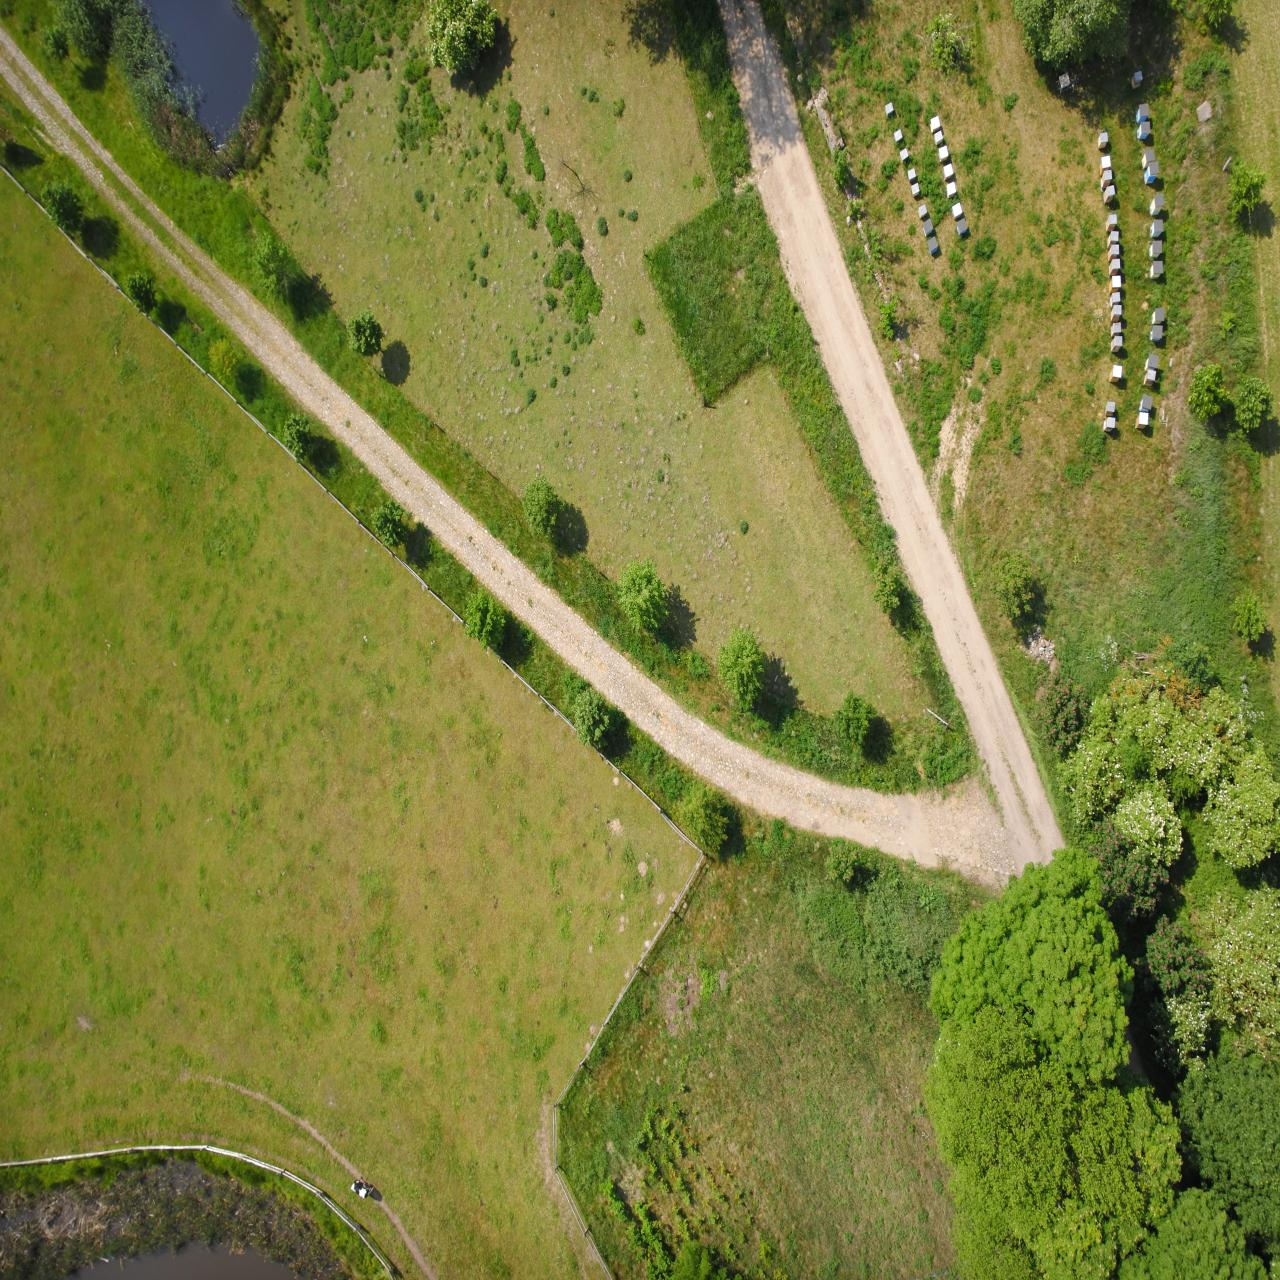cow: (906, 81, 930, 101)
